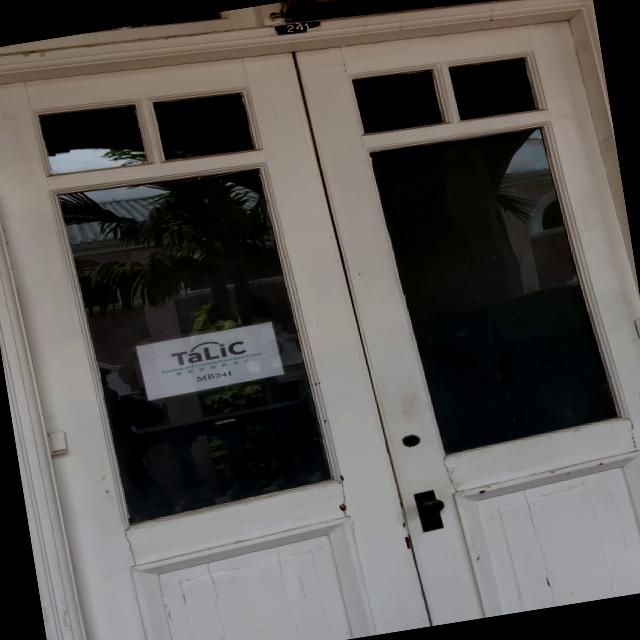room241: (273, 17, 322, 39)
